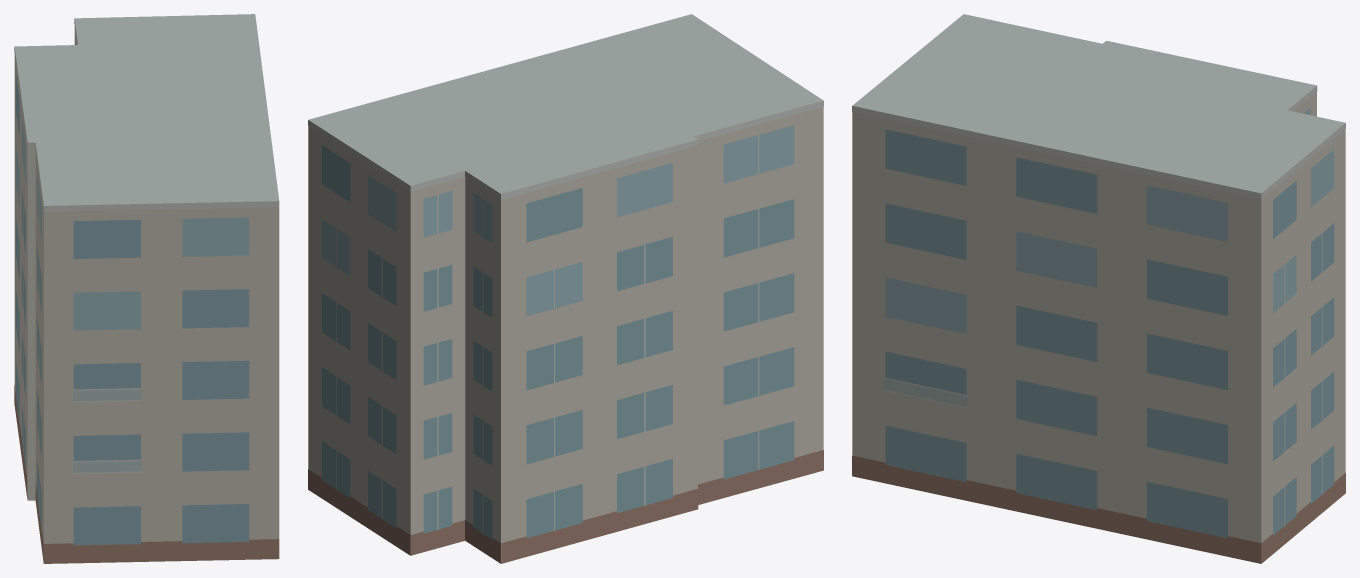
File: survey-upis-32960137.glb
3 renders of one model, left to right at view 1: azimuth 30°, elevation 25°; view 2: azimuth 150°, elevation 25°; view 3: azimuth 270°, elevation 25°, orthographic. The views are drawn at different scales.
Visible parts, largest first — view 1: survey-upis-32960137.tmp; view 2: survey-upis-32960137.tmp; view 3: survey-upis-32960137.tmp.
Boxes of the visible parts, x1,y1,x2,y2 form: survey-upis-32960137.tmp: [14, 14, 279, 563]; survey-upis-32960137.tmp: [308, 14, 823, 563]; survey-upis-32960137.tmp: [852, 14, 1345, 563].
Bounding box in the file's own units: 15.45 × 14.87 × 17.96.
